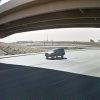Bridge: (2, 1, 92, 41)
